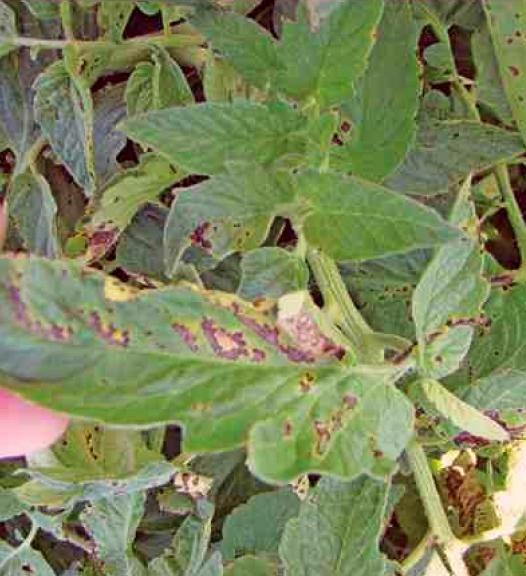Tomato Early blight leaf: (0, 256, 436, 489)
Tomato leaf: (288, 169, 479, 259), (120, 103, 284, 165), (191, 4, 294, 89)
